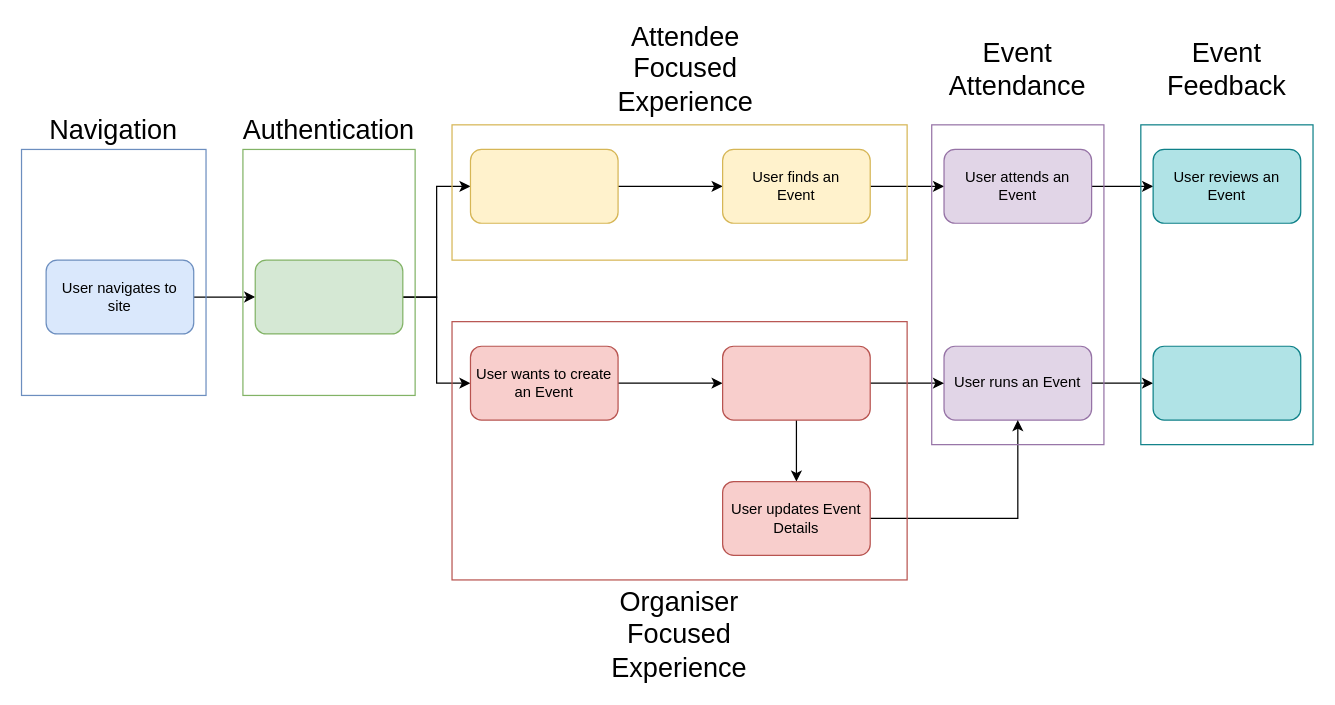
The diagram is 1335 pixels wide and 705 high, and some of its shapes have lost their labels. The shapes that lost their labels are listed below. From the top down, each one's centre as x and y in pixels, then its label:
At point (543, 185): "User searches for Events".
At point (328, 296): "User logs into website".
At point (795, 382): "User specifies Event Details".
At point (1226, 382): "User seeks feedback on Event".
